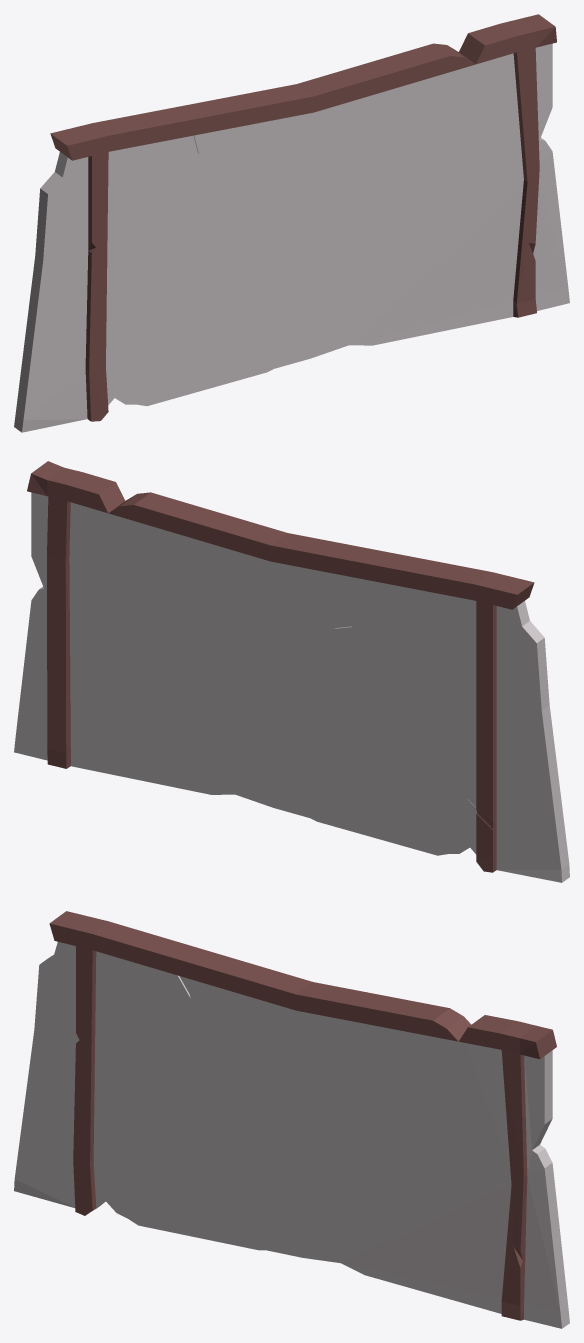
The model's file is BWallBroken_A.fbx.
3 renders of one model, top to bottom at view 1: azimuth 30°, elevation 25°; view 2: azimuth 150°, elevation 25°; view 3: azimuth 330°, elevation 25°, orthographic.
Parts seen in each view (by area): view 1: BWallPanel_A.137; view 2: BWallPanel_A.137; view 3: BWallPanel_A.137.
Part boxes in pixels (box(x1,y1,x2,y2)): BWallPanel_A.137: box(14, 14, 569, 432); BWallPanel_A.137: box(14, 461, 569, 882); BWallPanel_A.137: box(14, 911, 569, 1328).
Bounding box in the file's own units: 800 × 400 × 46.63.
